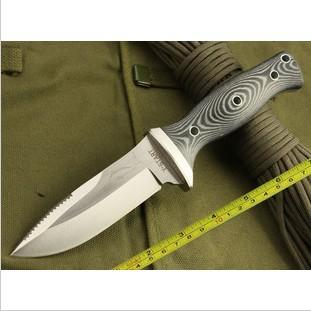knife: (6, 57, 297, 261)
